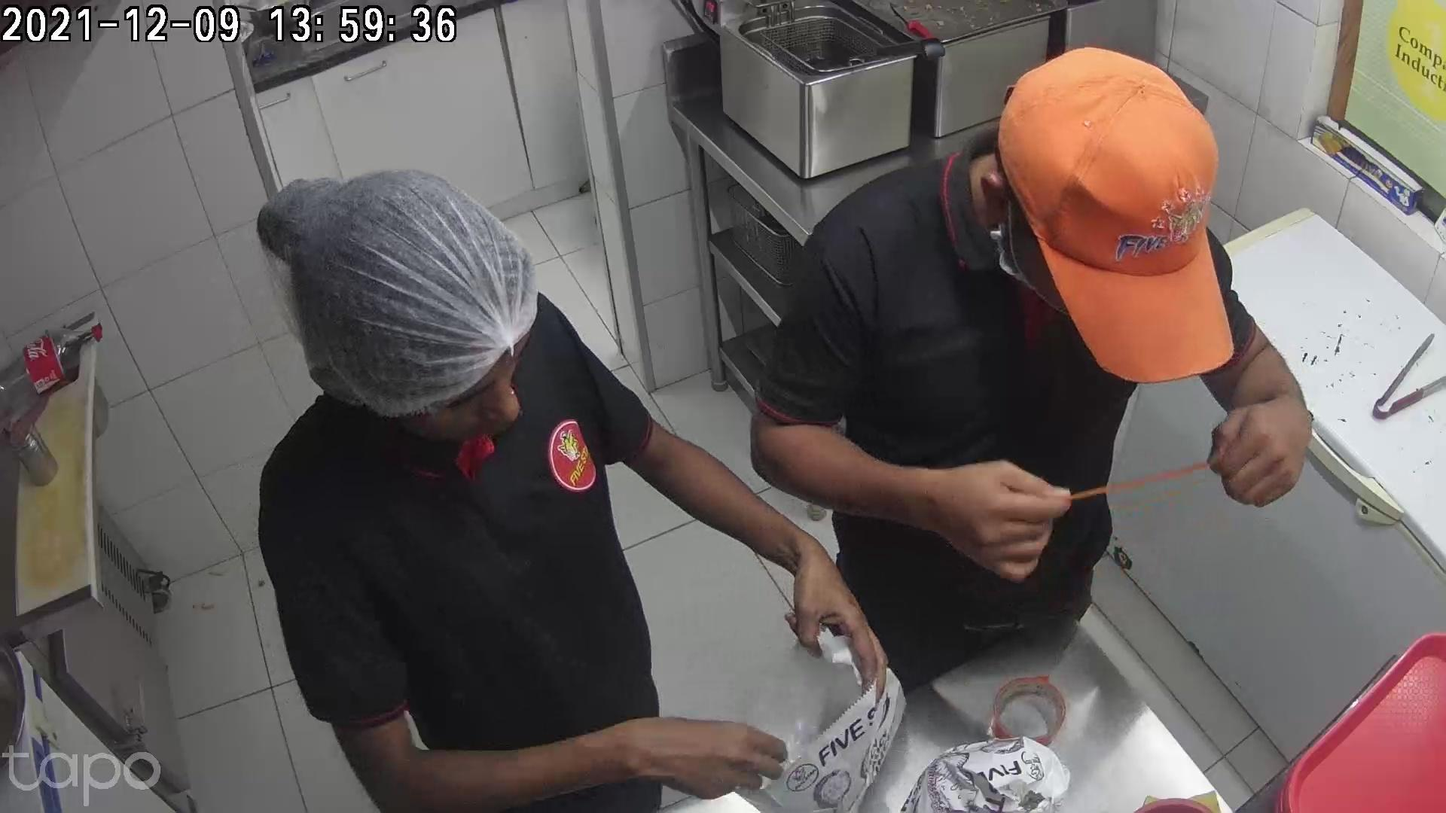no_gloves: (909, 471, 1066, 569)
